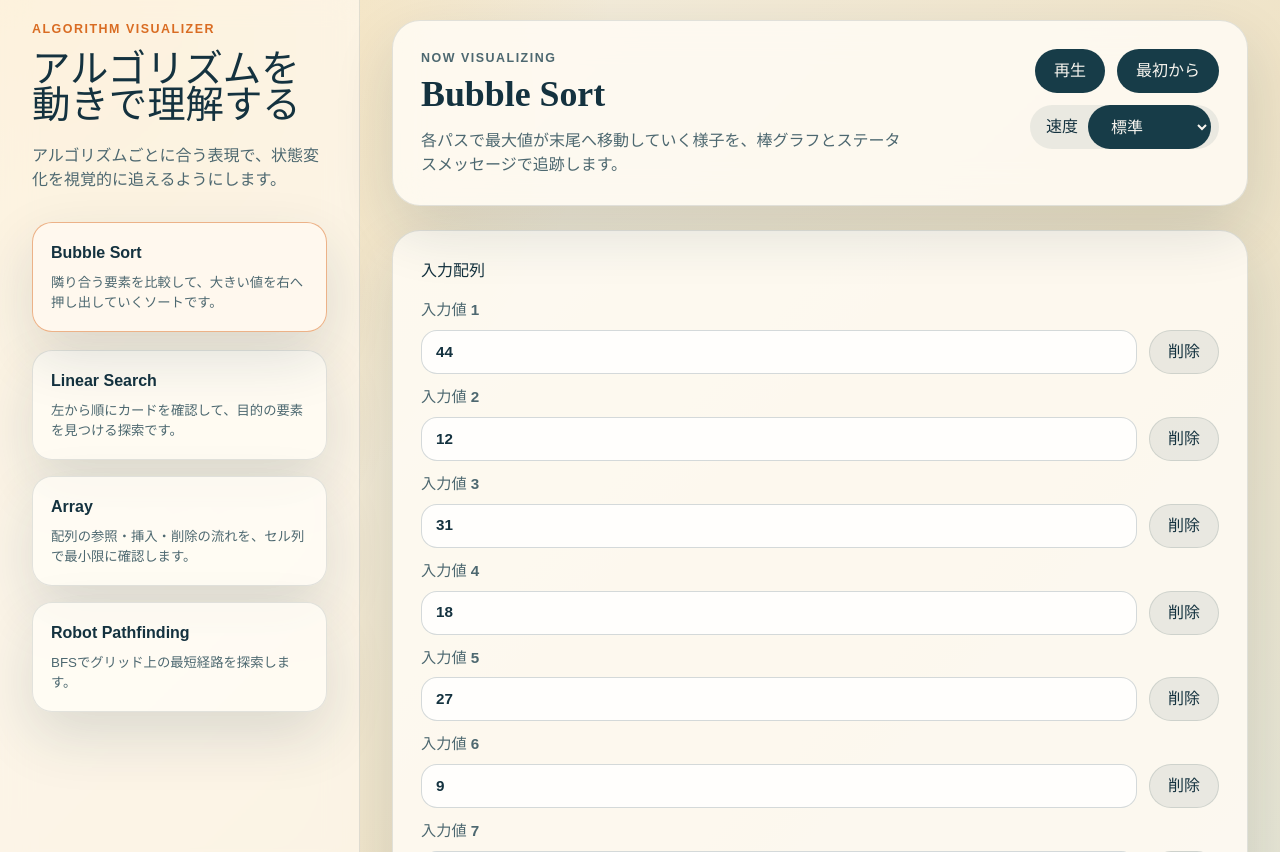
Test: App › resets the editor to the default sample
Replace the text in the number field labelled "入力値 1" with "5" at [779, 352], box [421, 330, 1137, 374]
(page scrolled)
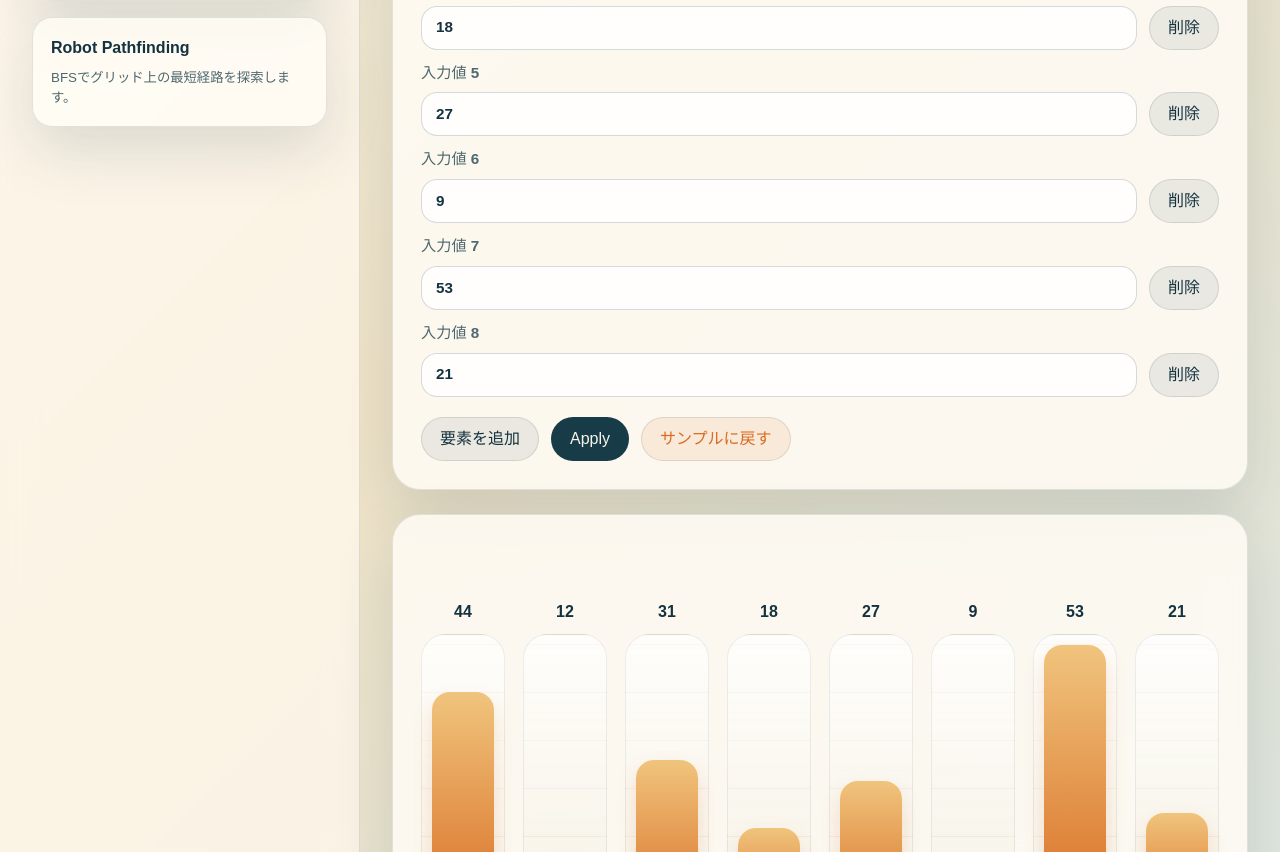
Click the button "サンプルに戻す" at [716, 439], box [641, 417, 790, 461]
(page scrolled)
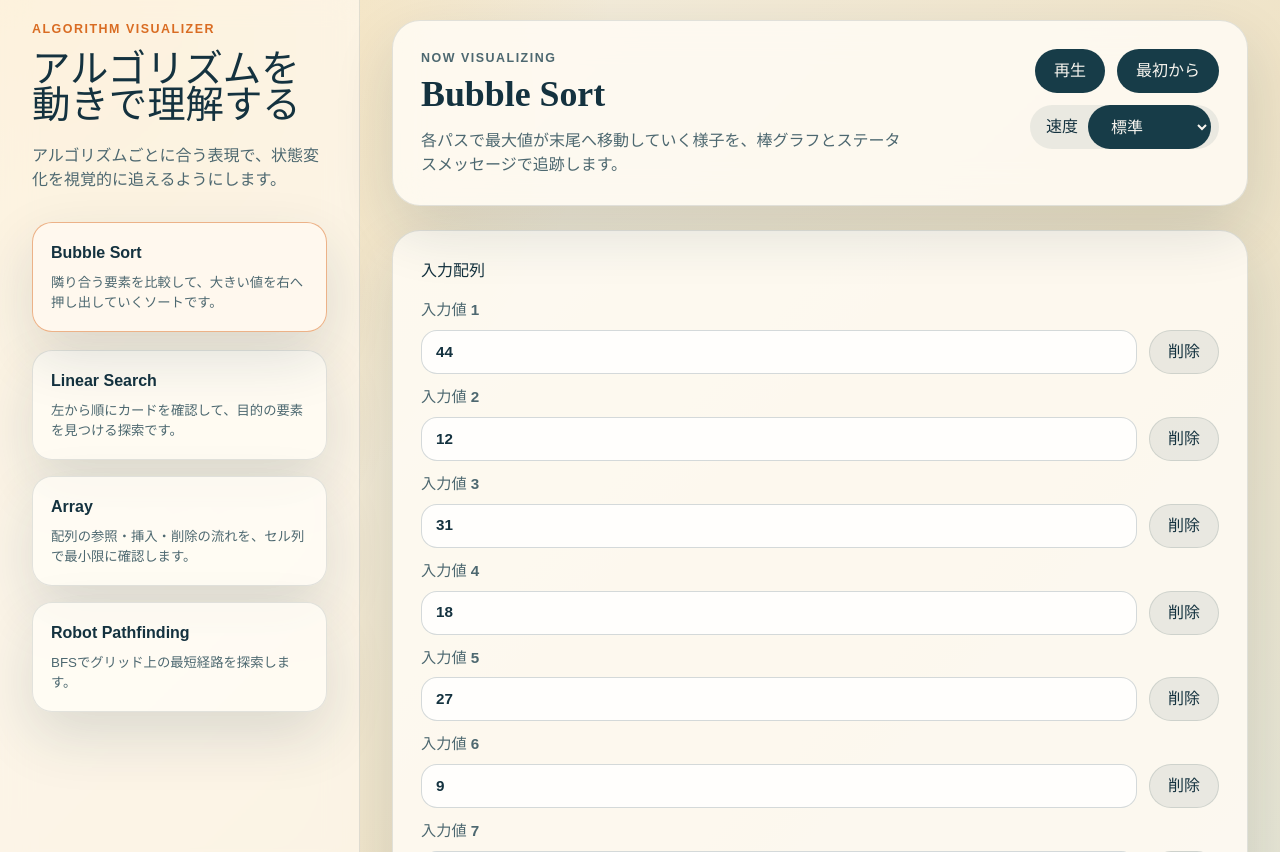
Check: the number field labelled "入力値 1" holds "44", box [421, 330, 1137, 374]
